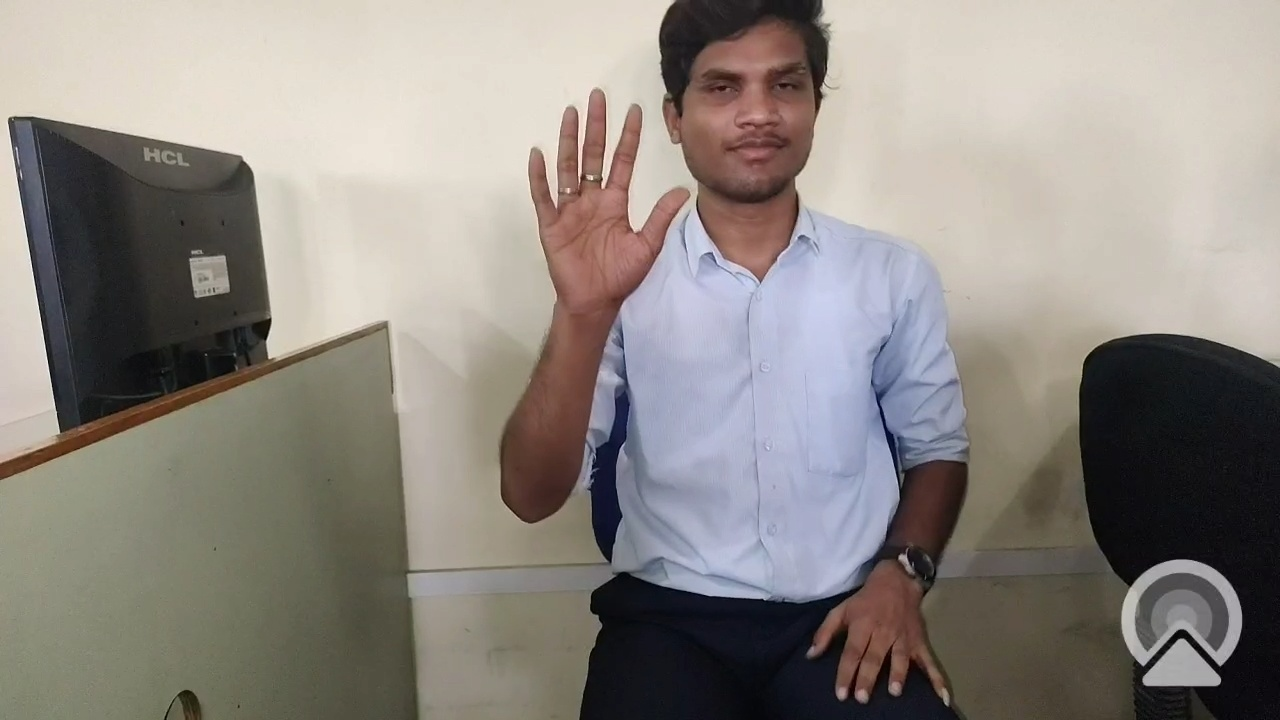Hello: (493, 84, 707, 323)
